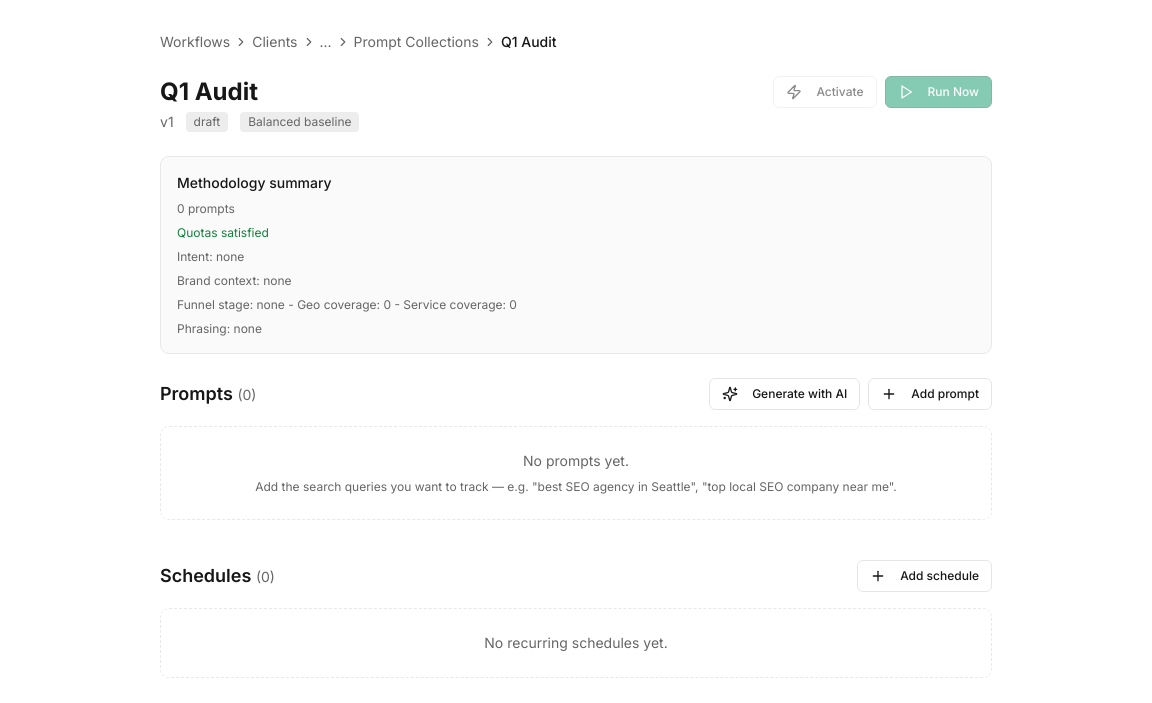
Test: PromptCollectionDetail — AI prompt generation › Generate with AI posts to the generate endpoint and renders returned candidates
Step 1. Click the button "Generate with AI" → (785, 394), box [709,378,860,410]
(page scrolled)
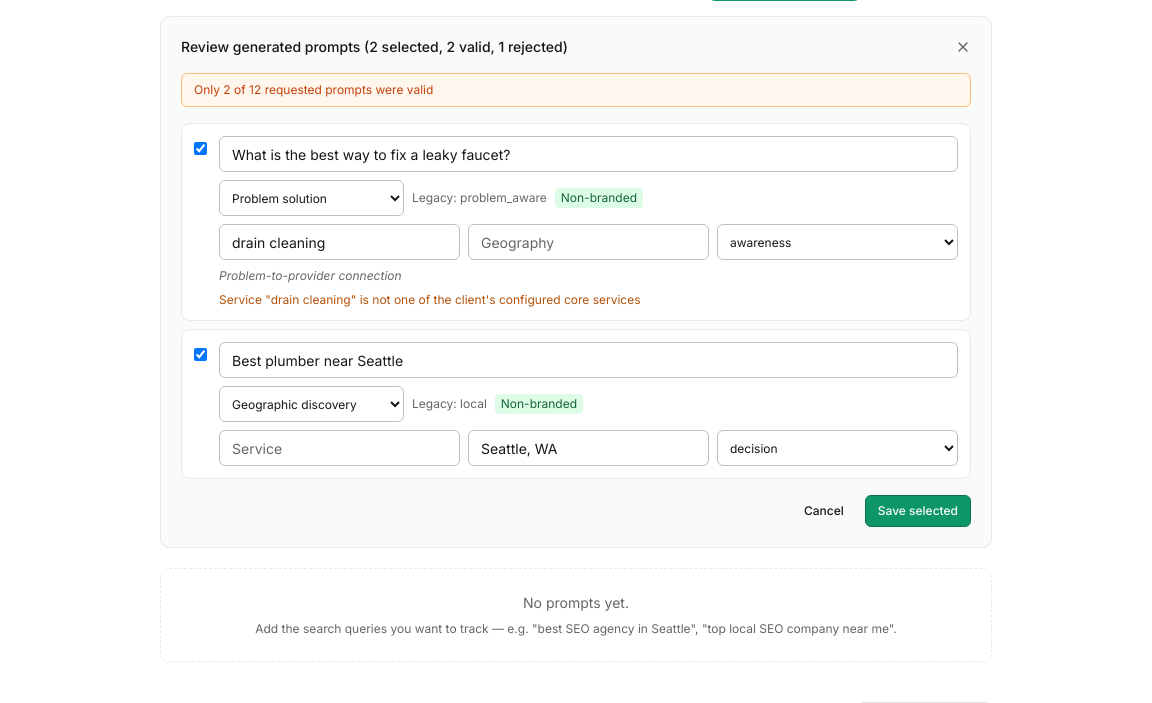
Result: the 1st field showing "What is the best way to fix a leaky faucet?" is shown at [219,136,958,172]
Result: the 2nd field showing "Best plumber near Seattle" is shown at [219,342,958,378]
